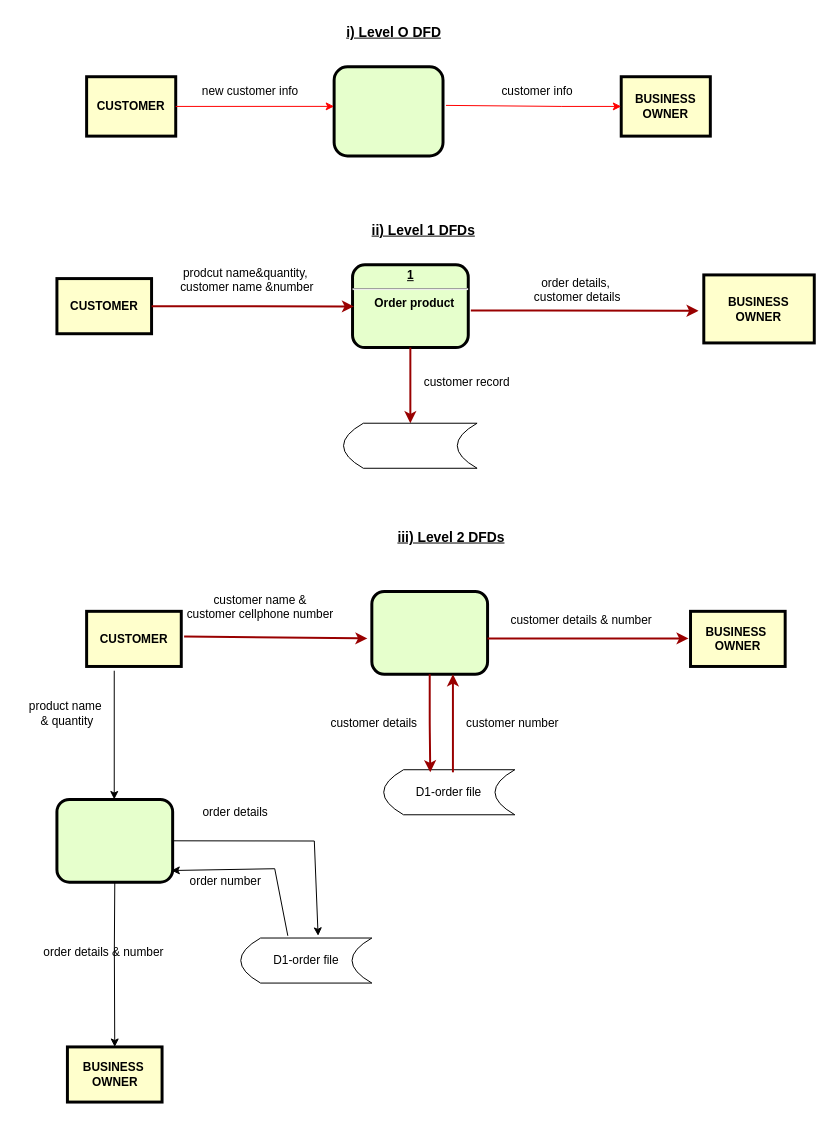
This 833x1121 diagram has some shape labels left out. Here are the shapes that lost their labels. From the top down, the centre of each, then its label:
the point at 388,111: 0 Order
the point at 410,445: D1- order file
the point at 429,632: 1.1 Register customer
the point at 114,840: 1.2 Choose product
